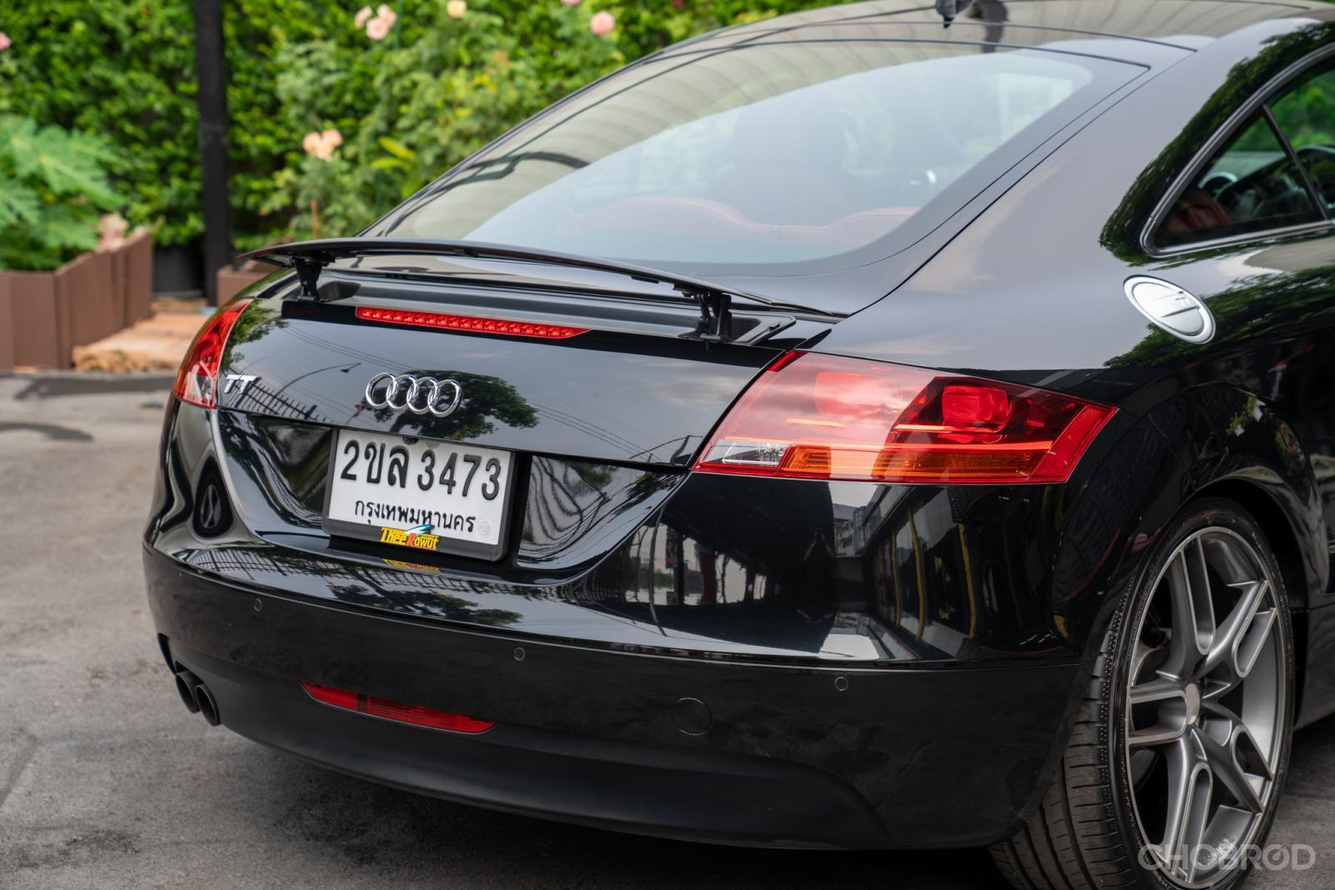license-plate: (319, 417, 511, 566)
